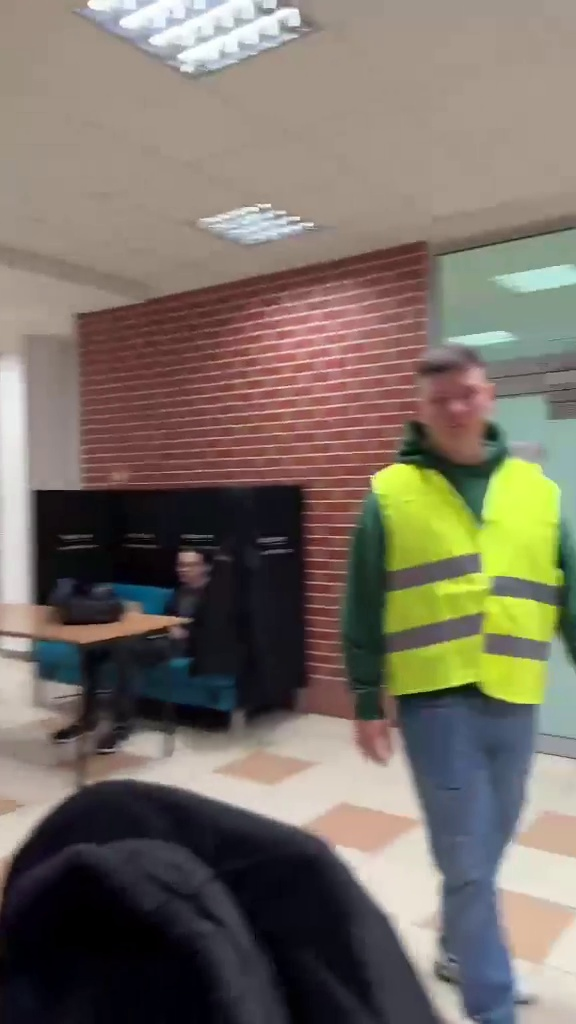no vest: (58, 541, 265, 786)
vest: (347, 338, 576, 1021)
